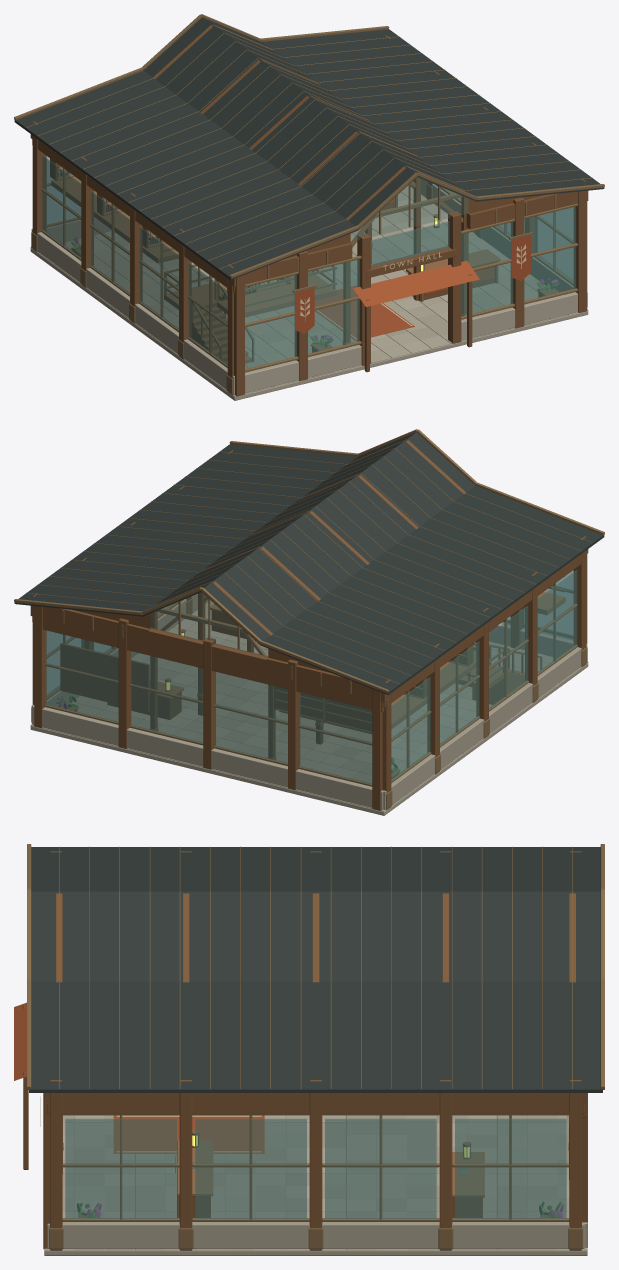
File: town_hall.glb
The picture shows the model from 3 angles, top to bottom: view 1: azimuth 30°, elevation 25°; view 2: azimuth 150°, elevation 25°; view 3: azimuth 270°, elevation 25°; orthographic projection. The views are drawn at different scales.
Visible parts, largest first — view 1: TownHall_Gallery_Runtime; view 2: TownHall_Gallery_Runtime; view 3: TownHall_Gallery_Runtime.
Part boxes in pixels (box(x1,y1,x2,y2)): TownHall_Gallery_Runtime: box(14, 14, 604, 400); TownHall_Gallery_Runtime: box(14, 429, 604, 815); TownHall_Gallery_Runtime: box(14, 844, 604, 1255).
Size of the model in its own units: 19.02 by 9.21 by 19.57.
